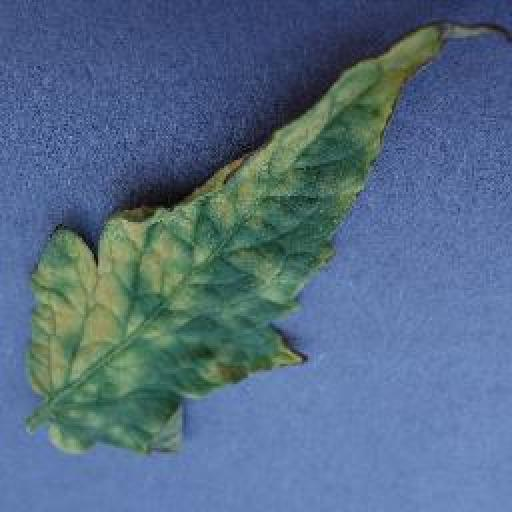disease_tomato: (27, 18, 455, 464)
